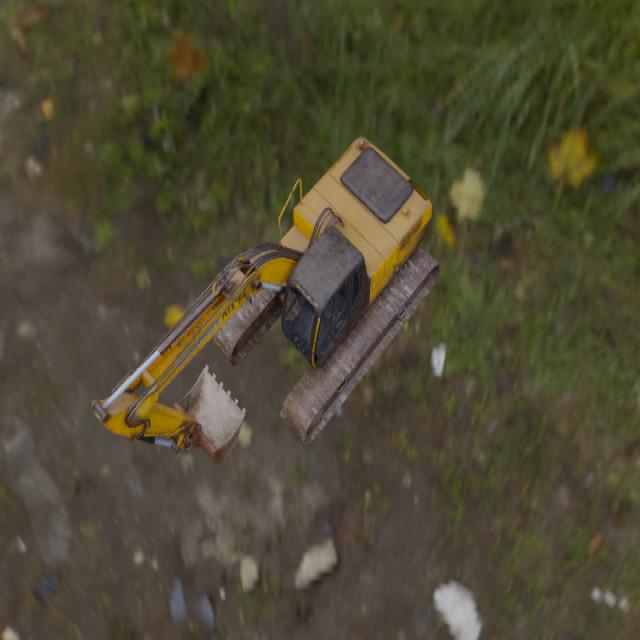excavator: (90, 136, 440, 464)
